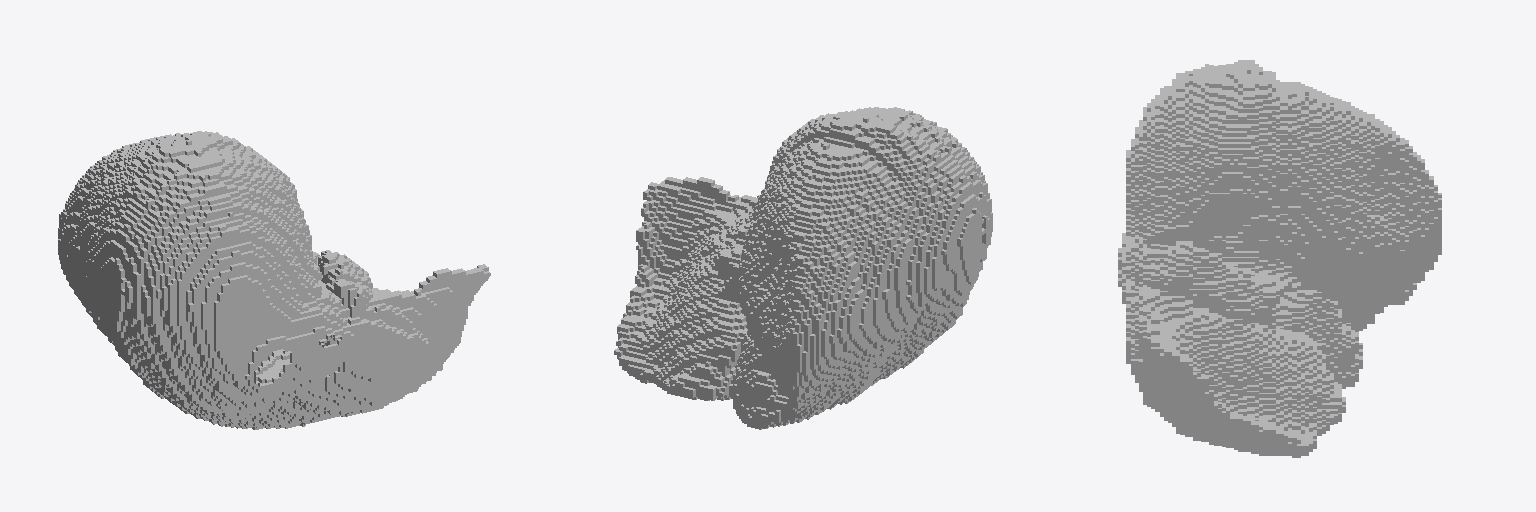
Rendered from exportedMesh.obj.
3 views of the same model, side by side, from view 1: azimuth 30°, elevation 25°; view 2: azimuth 150°, elevation 25°; view 3: azimuth 270°, elevation 25° (orthographic).
Parts seen in each view (by area): view 1: anObj; view 2: anObj; view 3: anObj.
Boxes of the visible parts, <box> form: anObj: <box>58,131,490,429</box>; anObj: <box>614,107,992,429</box>; anObj: <box>1118,60,1441,457</box>.
Bounding box in the file's own units: 97 × 78 × 78.